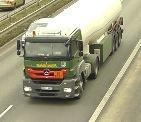truck: (17, 0, 123, 100)
